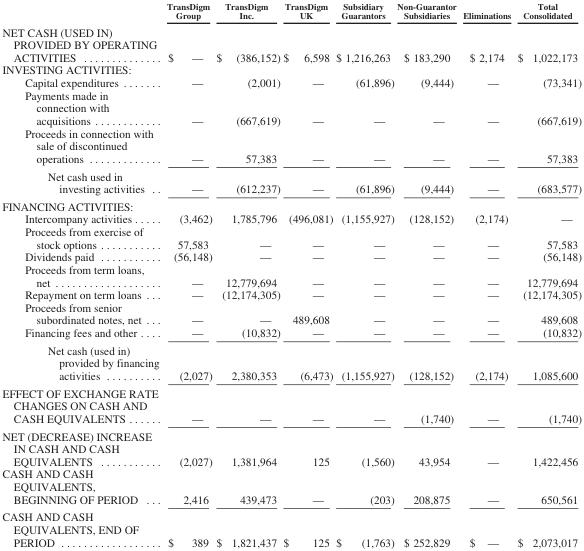table: (1, 0, 581, 548)
table column: (1, 0, 162, 548), (213, 0, 281, 548), (513, 0, 581, 548), (395, 0, 458, 548), (333, 0, 395, 548), (458, 0, 513, 548), (281, 0, 333, 548), (162, 0, 213, 548)
table column header: (1, 0, 581, 22)
table projected row header: (1, 197, 581, 212), (1, 63, 581, 75)
table row: (1, 383, 581, 426), (1, 341, 581, 383), (1, 22, 581, 63), (1, 426, 581, 467), (1, 507, 581, 548), (1, 126, 581, 166), (1, 467, 581, 507), (1, 88, 581, 126), (1, 166, 581, 197), (1, 224, 581, 250), (1, 262, 581, 288), (1, 300, 581, 325), (1, 0, 581, 22), (1, 325, 581, 341), (1, 197, 581, 212), (1, 75, 581, 88), (1, 63, 581, 75), (1, 212, 581, 224), (1, 250, 581, 262), (1, 288, 581, 300)
